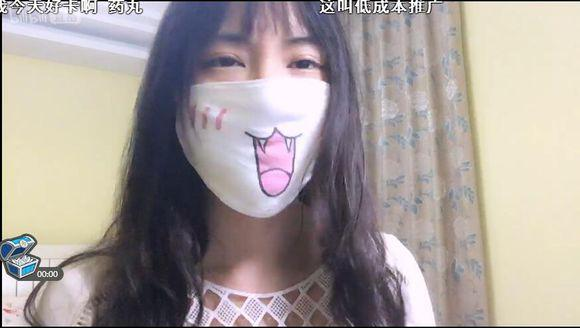OK: (173, 33, 347, 207)
